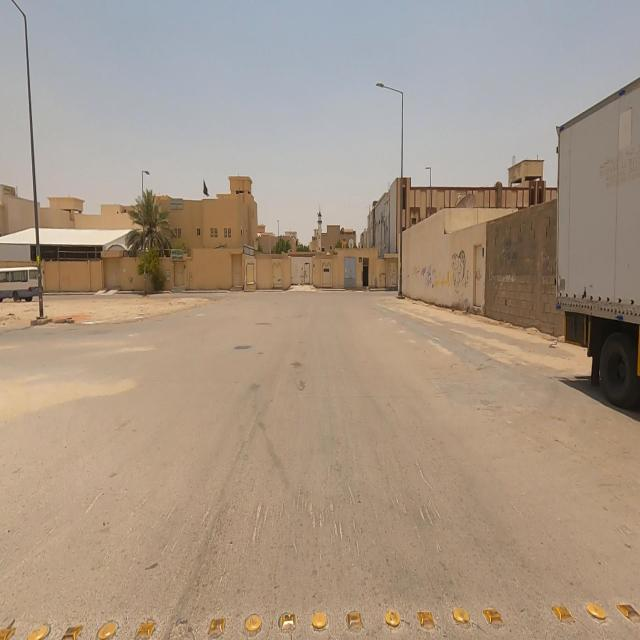Graffiti: (414, 250, 472, 294), (500, 238, 522, 265), (476, 267, 484, 287)
